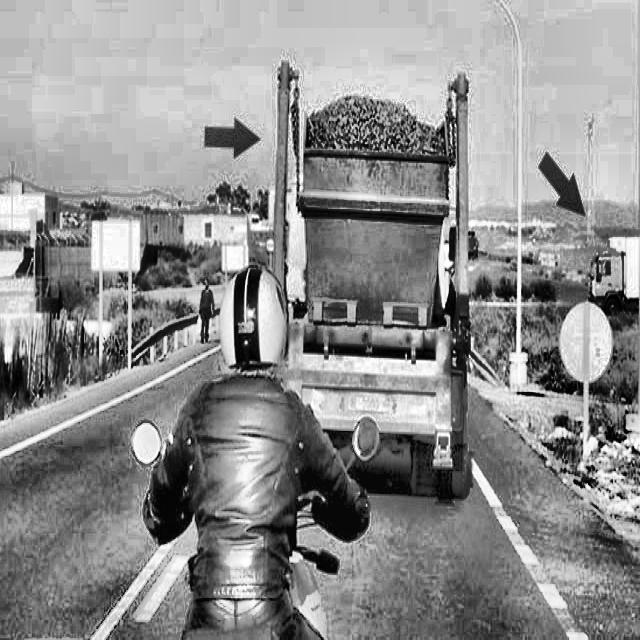Helmet: (216, 256, 299, 384)
